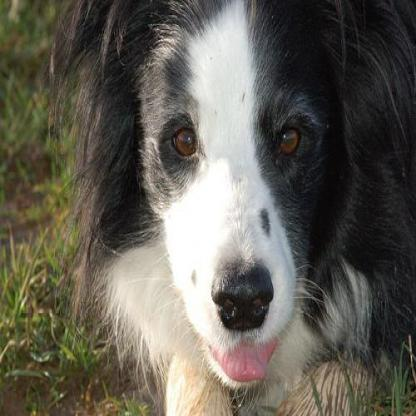Border_collie: (45, 0, 414, 413)
